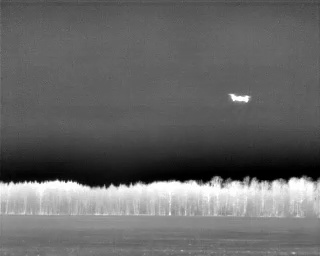DRONE: (226, 89, 254, 108)
